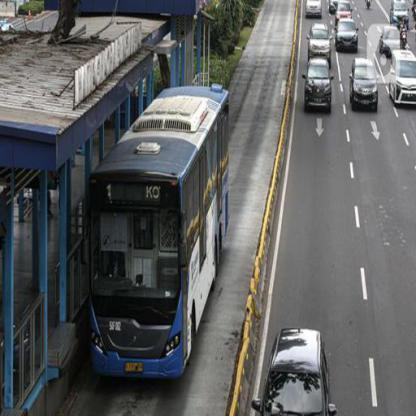bus: (86, 82, 230, 385)
car: (253, 326, 338, 415), (387, 47, 415, 112), (348, 58, 378, 112), (304, 60, 333, 113), (306, 22, 332, 62), (336, 20, 360, 52), (306, 0, 323, 19), (336, 2, 352, 20)
motorbike: (399, 26, 410, 46)
